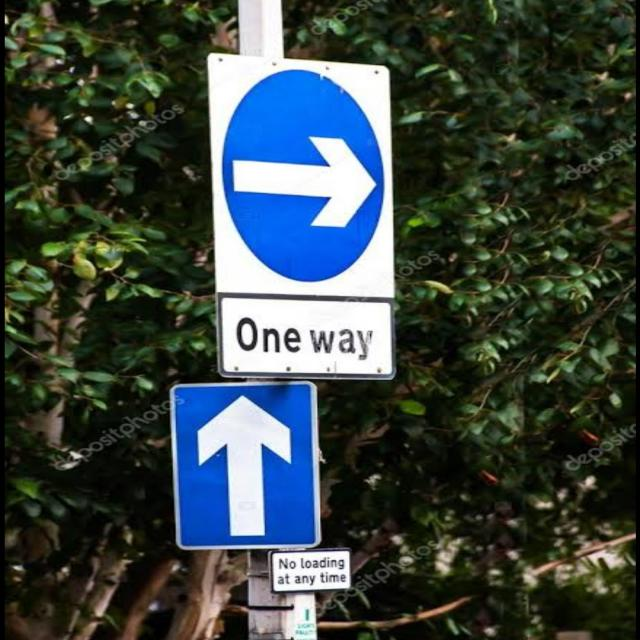Turn Right: (218, 62, 397, 290)
